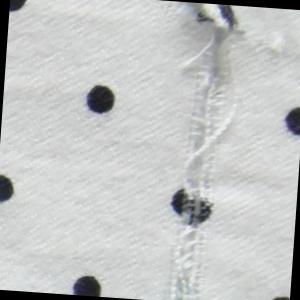Damage: (153, 2, 247, 300)
